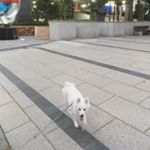puppy: (57, 78, 93, 134)
